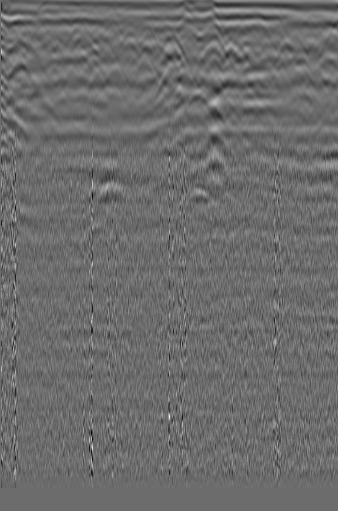상수: (310, 52, 337, 79)
오수: (6, 60, 38, 92)
우수: (155, 31, 190, 74)
